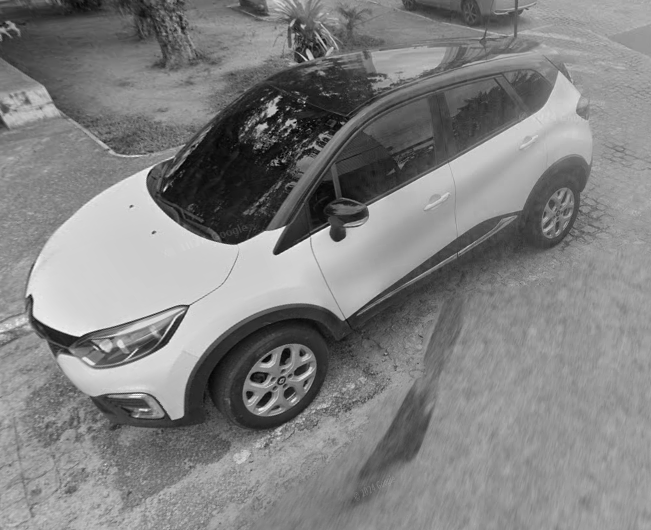car: (24, 1, 596, 430)
